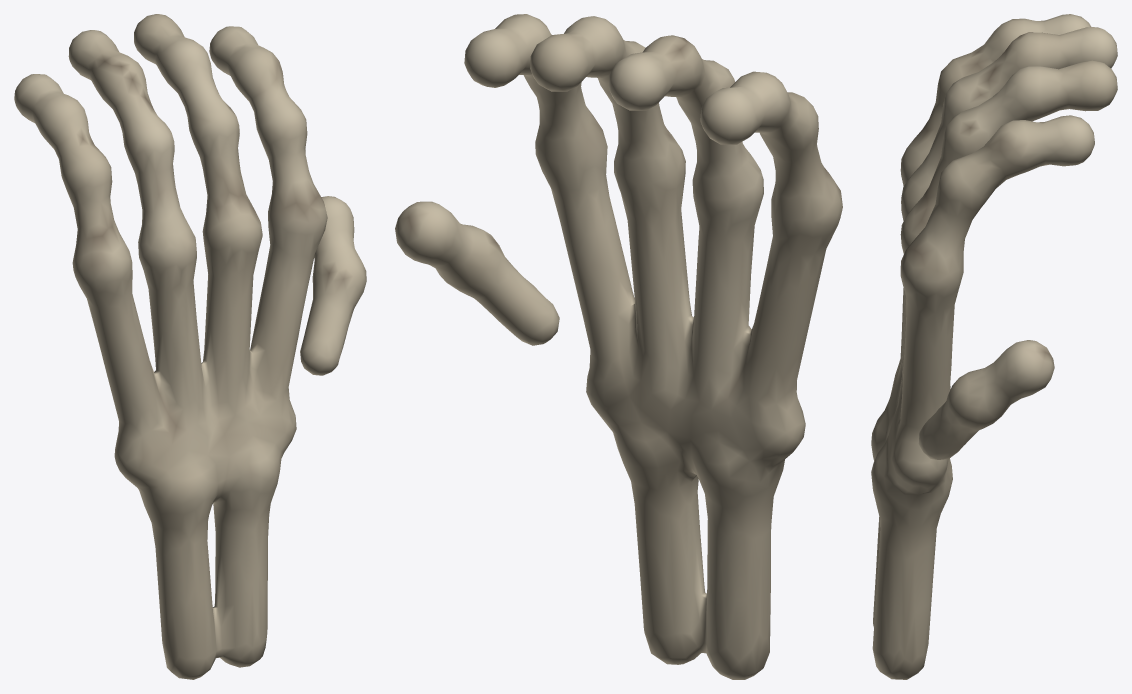
File: skeletron_hand.glb
3 views of the same model, side by side, from view 1: azimuth 30°, elevation 25°; view 2: azimuth 150°, elevation 25°; view 3: azimuth 270°, elevation 25° (orthographic). The views are drawn at different scales.
Visible parts, largest first — view 1: skeletron_hand; view 2: skeletron_hand; view 3: skeletron_hand.
Part boxes in pixels (x1,y1,x2,y2): skeletron_hand: [14, 14, 366, 679]; skeletron_hand: [395, 14, 842, 679]; skeletron_hand: [871, 14, 1117, 679].
Bounding box in the file's own units: 1.08 × 1.88 × 0.6792.
